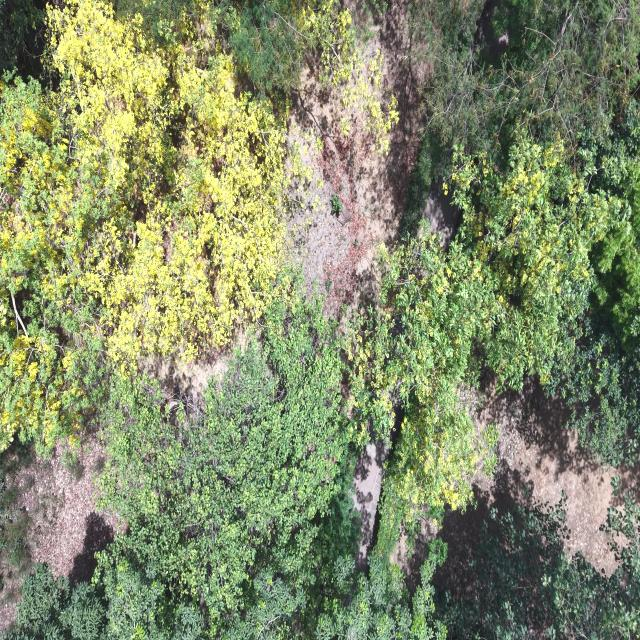DRY_AREA: (390, 377, 639, 587), (391, 378, 639, 585), (391, 377, 639, 579), (392, 378, 639, 580), (285, 0, 429, 316), (288, 0, 431, 317), (289, 0, 430, 316), (289, 0, 429, 316), (289, 1, 428, 314), (435, 377, 639, 584), (438, 378, 639, 582), (476, 378, 637, 575), (5, 433, 125, 583), (5, 434, 125, 582), (10, 437, 124, 582), (15, 434, 125, 583), (20, 440, 118, 581), (137, 347, 229, 401), (353, 440, 389, 569), (353, 442, 386, 567), (389, 517, 437, 590), (422, 184, 459, 247)
VEGETATION_TREE: (0, 0, 639, 639), (0, 0, 389, 452), (350, 1, 639, 555), (0, 2, 285, 449), (351, 130, 623, 553), (13, 303, 356, 637), (417, 1, 639, 463), (2, 2, 284, 364), (100, 302, 347, 632), (215, 497, 639, 639), (93, 460, 357, 639), (349, 234, 495, 555), (451, 130, 620, 385), (414, 0, 639, 179), (550, 99, 639, 464), (437, 496, 639, 639), (215, 541, 445, 639), (0, 273, 104, 455), (4, 565, 202, 639), (307, 540, 446, 639), (214, 0, 314, 90), (3, 565, 107, 639), (0, 439, 33, 604)
